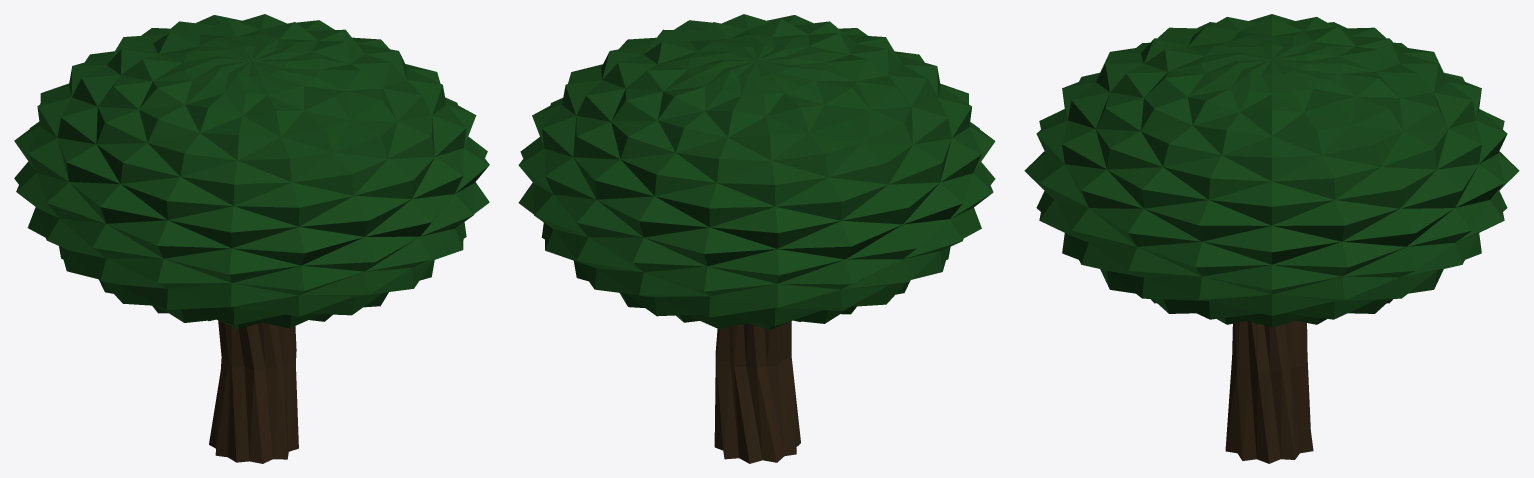
Rendered from ShortFatTree_Green.fbx.
The picture shows the model from 3 angles, left to right: view 1: azimuth 30°, elevation 25°; view 2: azimuth 150°, elevation 25°; view 3: azimuth 270°, elevation 25°; orthographic projection.
Visible parts, largest first — view 1: pSphere3, pCylinder3; view 2: pSphere3, pCylinder3; view 3: pSphere3, pCylinder3.
Boxes of the visible parts, <box> form: pSphere3: <box>14,14,489,328</box>; pCylinder3: <box>209,320,298,463</box>; pSphere3: <box>518,14,995,329</box>; pCylinder3: <box>714,321,800,463</box>; pSphere3: <box>1024,14,1519,327</box>; pCylinder3: <box>1225,320,1313,463</box>.
Bounding box in the file's own units: 17.7 × 15.89 × 18.46.
